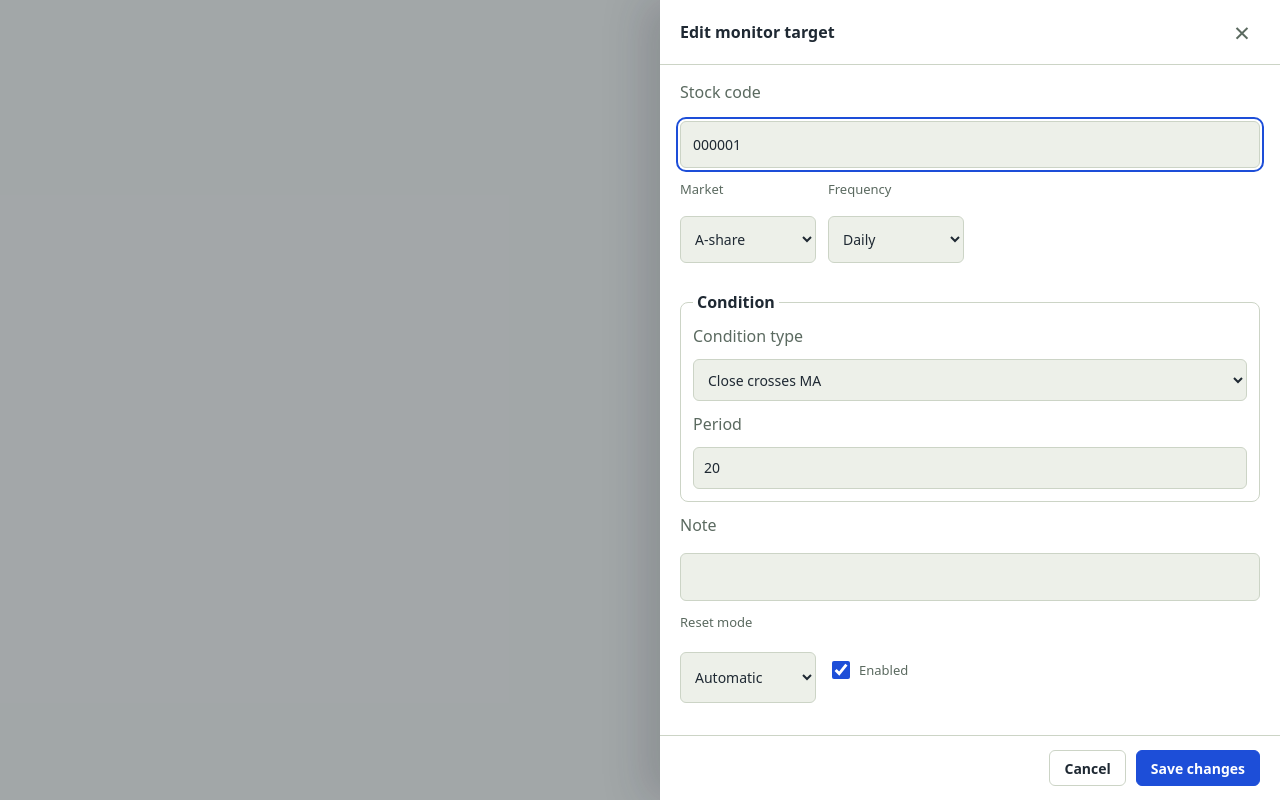
Test: MonitorTargetFormModal › prevents an invalid close-cross-MA edit after scope changes
Select "Hong Kong" in the dropdown labelled "Market" at (748, 240), box [680,216,816,263]
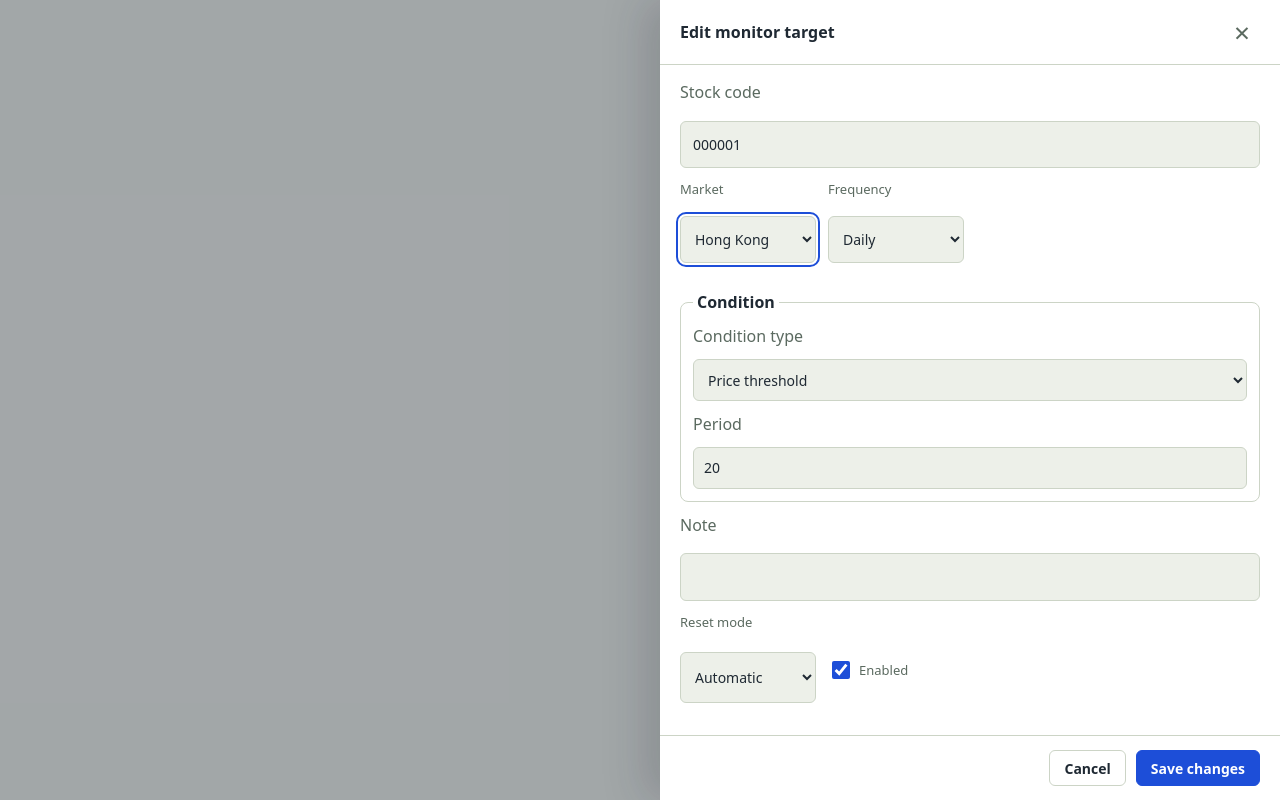
Click the button "Save changes" at (1198, 768), box [1136,750,1260,786]
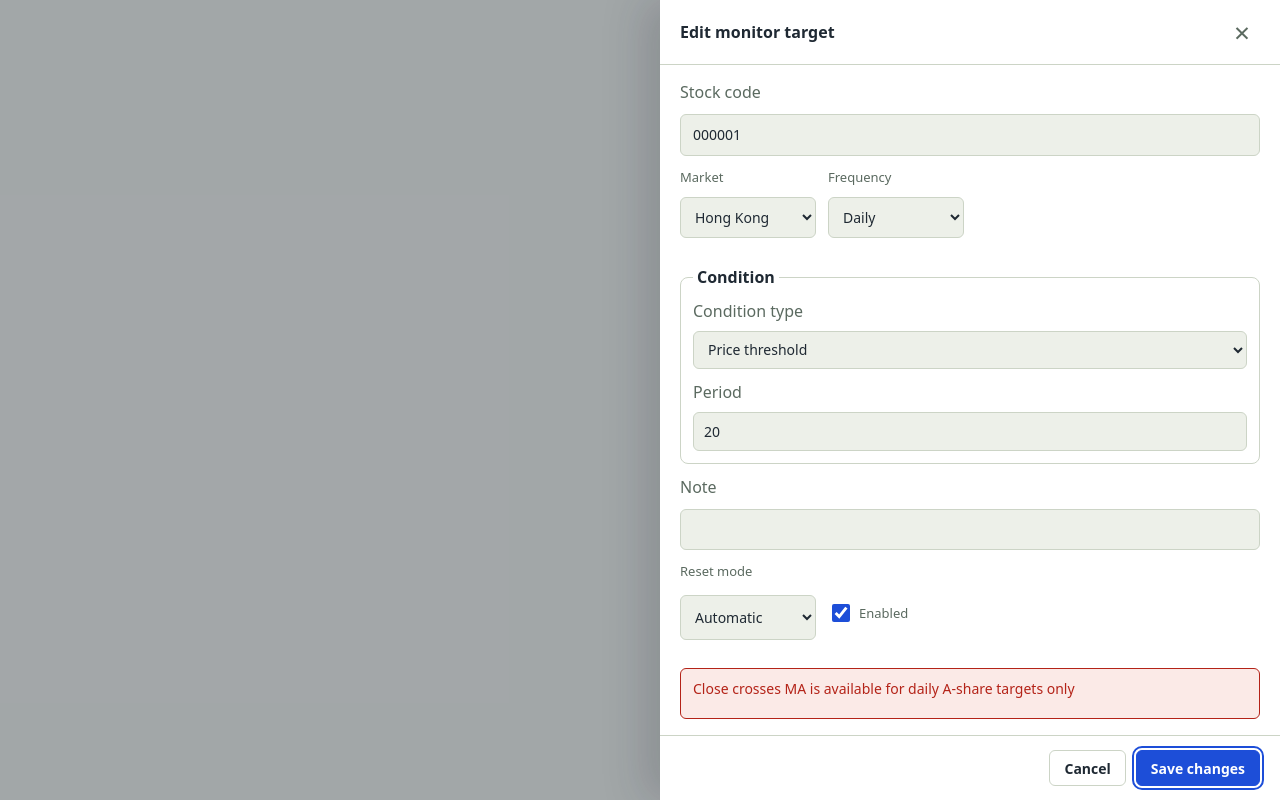
Check: the message reads "Close crosses MA is available for daily A-share targets only", box [693,678,1075,698]
